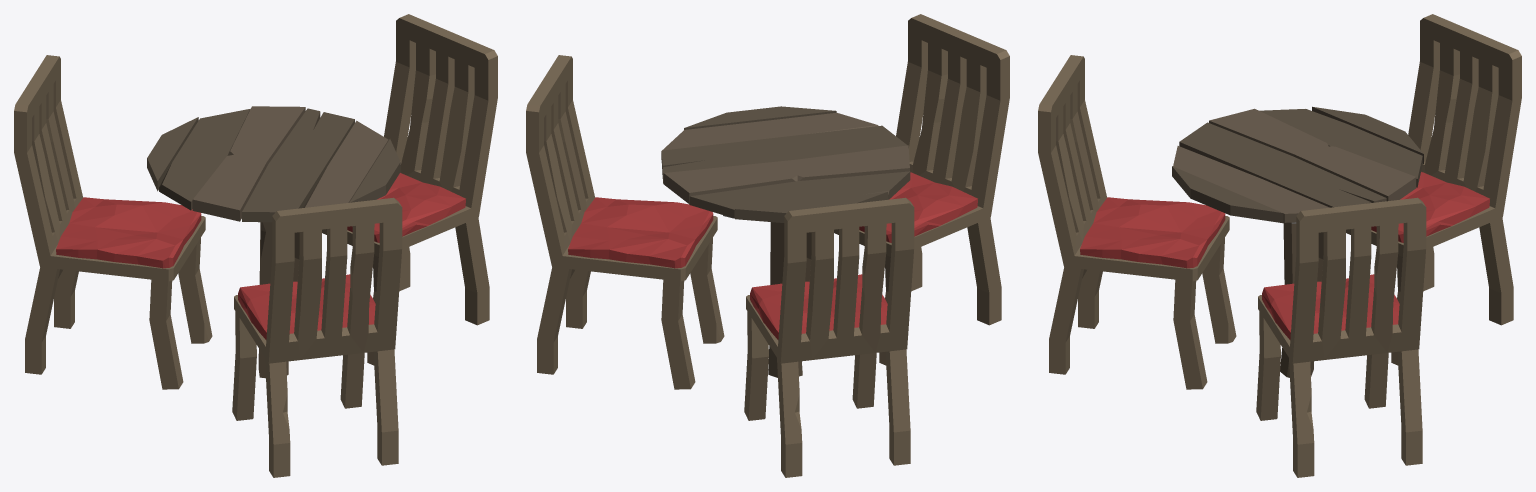
Rendered from SM_Props_City_Beach_Chair_Preset.fbx.
The picture shows the model from 3 angles, left to right: view 1: azimuth 30°, elevation 25°; view 2: azimuth 150°, elevation 25°; view 3: azimuth 270°, elevation 25°; orthographic projection.
Visible parts, largest first — view 1: SM_Props_City_Beach_Chair_Preset; view 2: SM_Props_City_Beach_Chair_Preset; view 3: SM_Props_City_Beach_Chair_Preset.
Part boxes in pixels (x1,y1,x2,y2): SM_Props_City_Beach_Chair_Preset: (14,14,497,477); SM_Props_City_Beach_Chair_Preset: (526,14,1009,477); SM_Props_City_Beach_Chair_Preset: (1038,14,1521,477).
Size of the model in its own units: 173 by 105 by 173.
